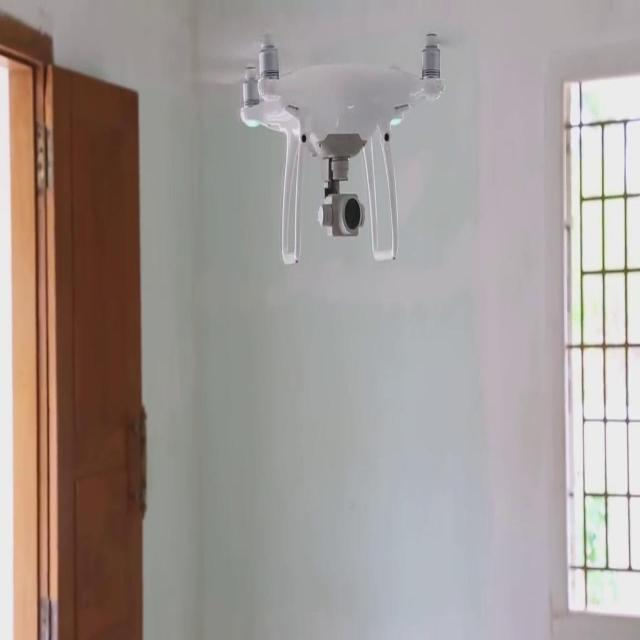drone: (186, 0, 494, 276)
